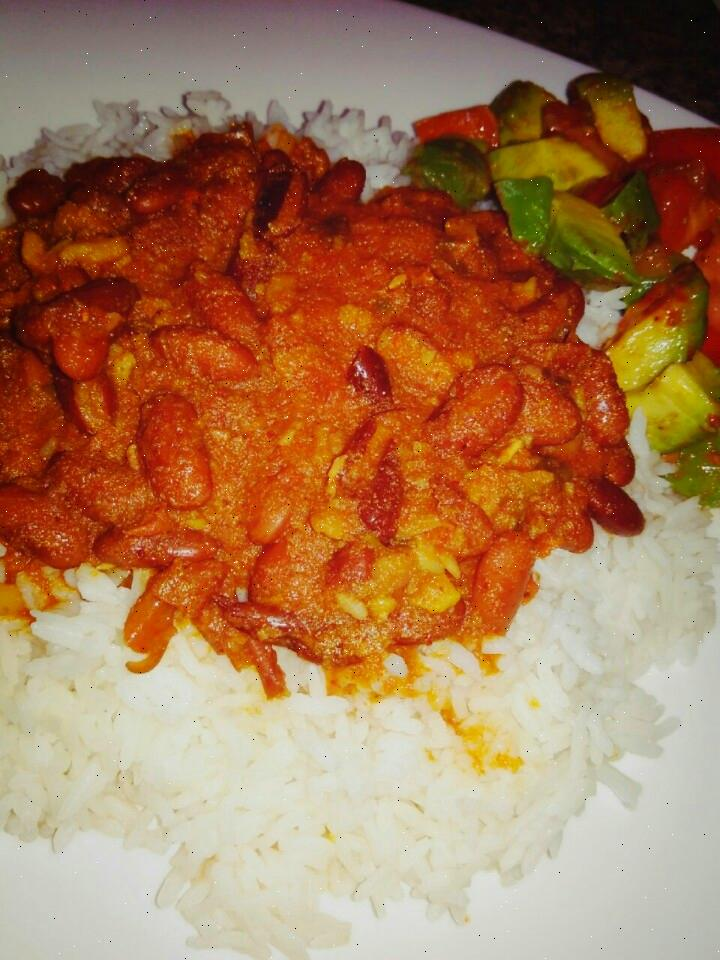rajma: (12, 140, 548, 595)
